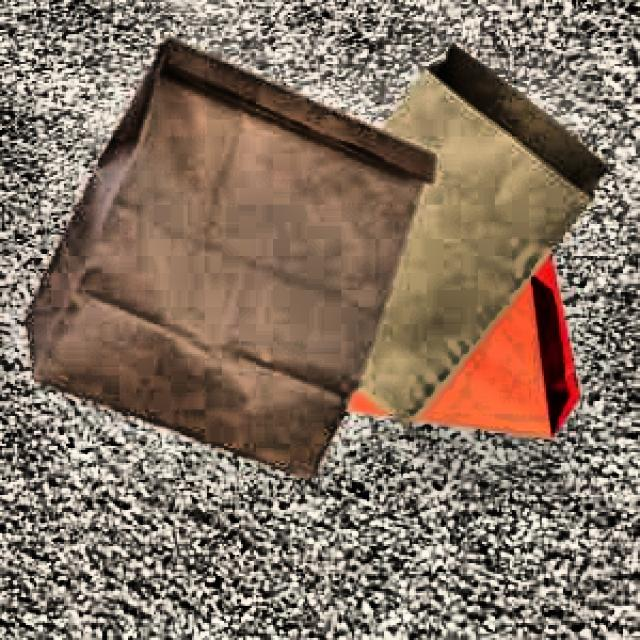Paper-bag: (16, 36, 440, 499), (296, 44, 600, 430), (273, 222, 594, 451)
